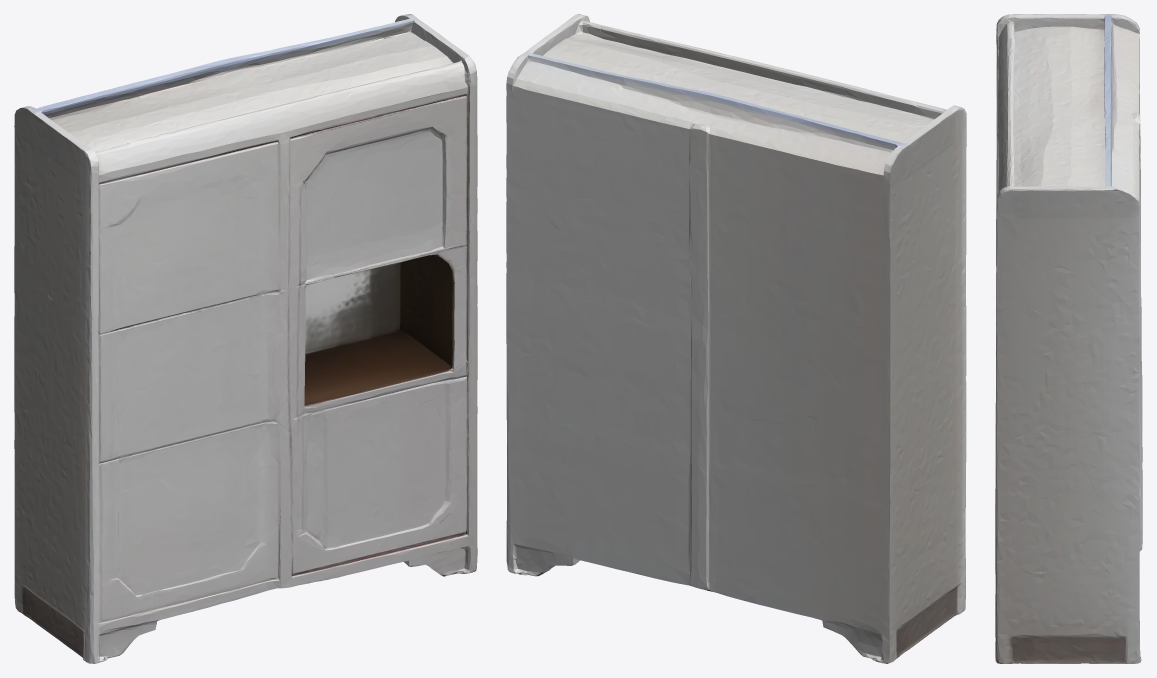
Rendered from ast_0c40e643ff23.glb.
The picture shows the model from 3 angles, left to right: view 1: azimuth 30°, elevation 25°; view 2: azimuth 150°, elevation 25°; view 3: azimuth 270°, elevation 25°; orthographic projection. The views are drawn at different scales.
Visible parts, largest first — view 1: geometry_0; view 2: geometry_0; view 3: geometry_0.
Boxes of the visible parts, x1,y1,x2,y2 form: geometry_0: (14,14,477,663); geometry_0: (506,14,966,663); geometry_0: (995,14,1142,663).
Bounding box in the file's own units: 0.7925 × 1 × 0.2788.
1 material, 1 textured.
